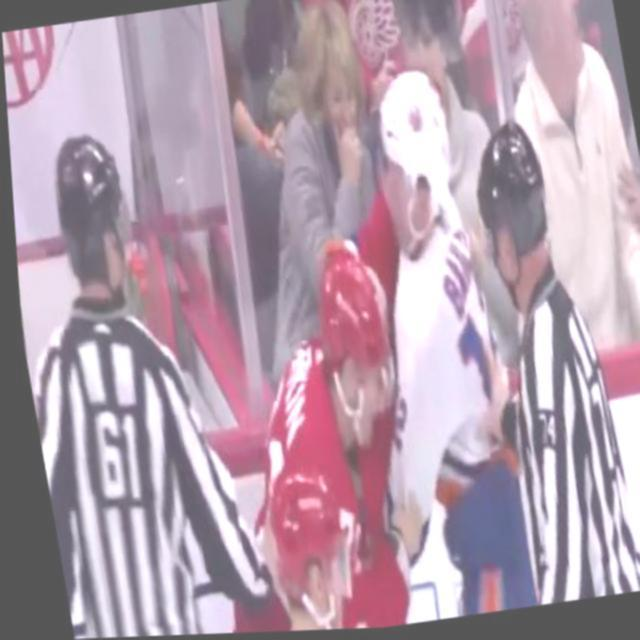fight: (188, 52, 550, 635)
non-fight: (28, 89, 202, 640)
